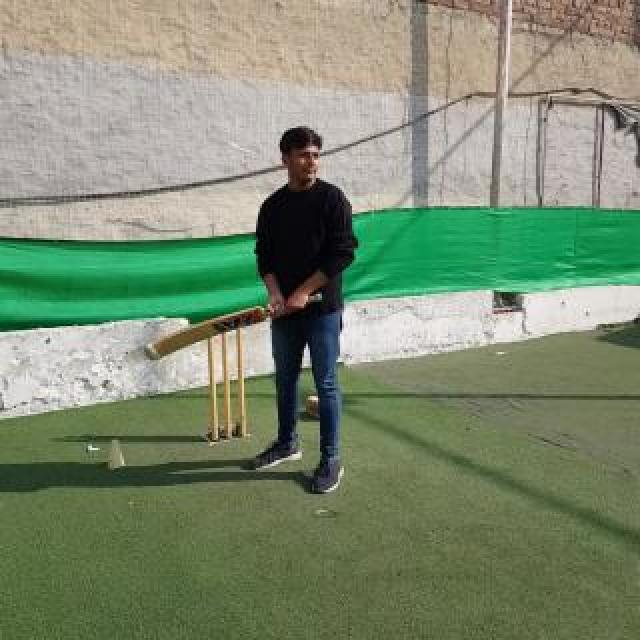bat: (144, 292, 322, 362)
